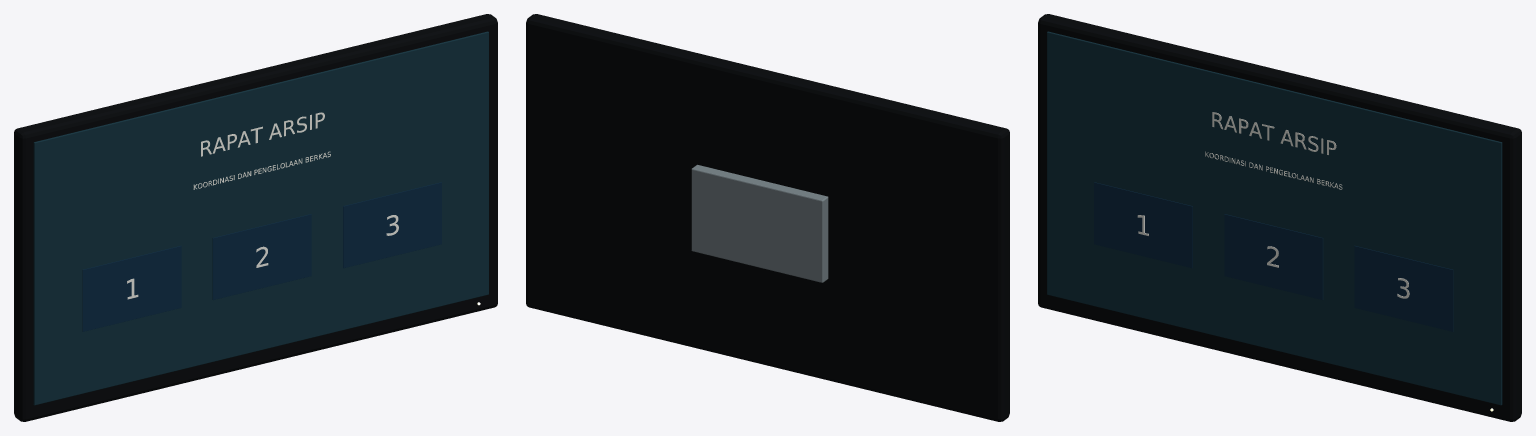
File: OAA_Layar_Rapat_65in.fbx
3 renders of one model, left to right at view 1: azimuth 30°, elevation 25°; view 2: azimuth 150°, elevation 25°; view 3: azimuth 330°, elevation 25°, orthographic.
Visible parts, largest first — view 1: Body; view 2: Body; view 3: Body.
Part boxes in pixels (box(x1,y1,x2,y2)): Body: box(14, 14, 497, 421); Body: box(526, 14, 1009, 421); Body: box(1038, 14, 1521, 421).
Bounding box in the file's own units: 1.45 × 0.84 × 0.0935.
